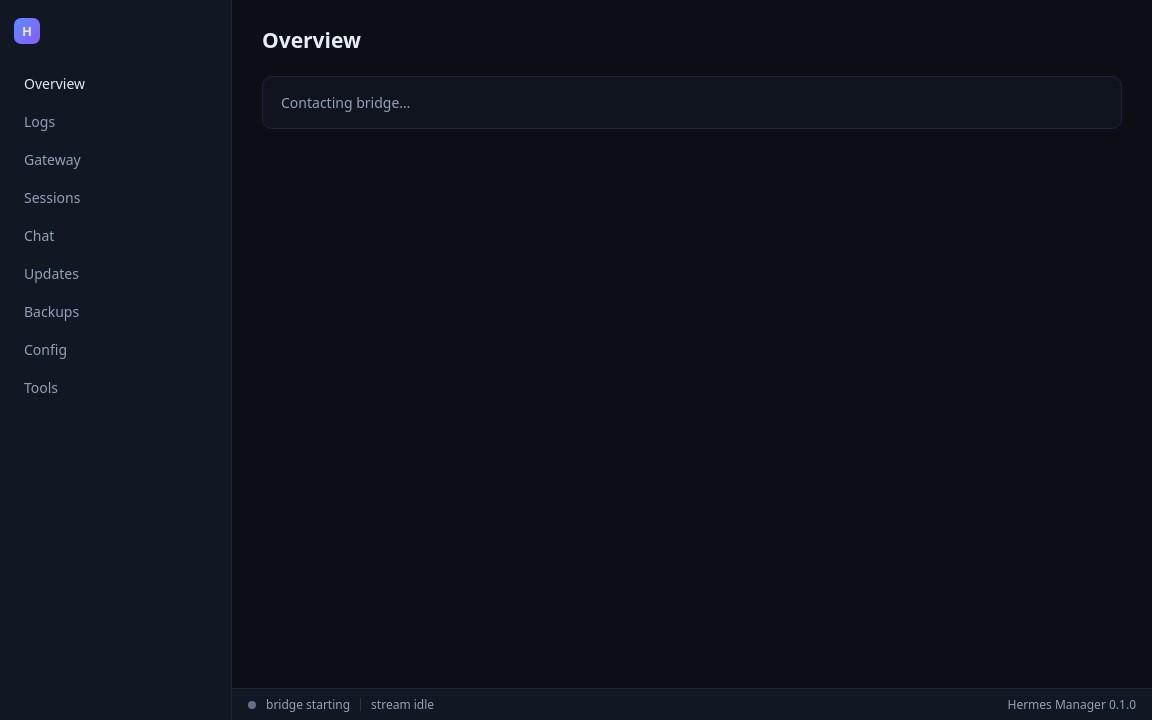
App shell › renders gateway status, fleet and processes
Click the button with test id "nav-gateway": (116, 160) [14,142,217,177]
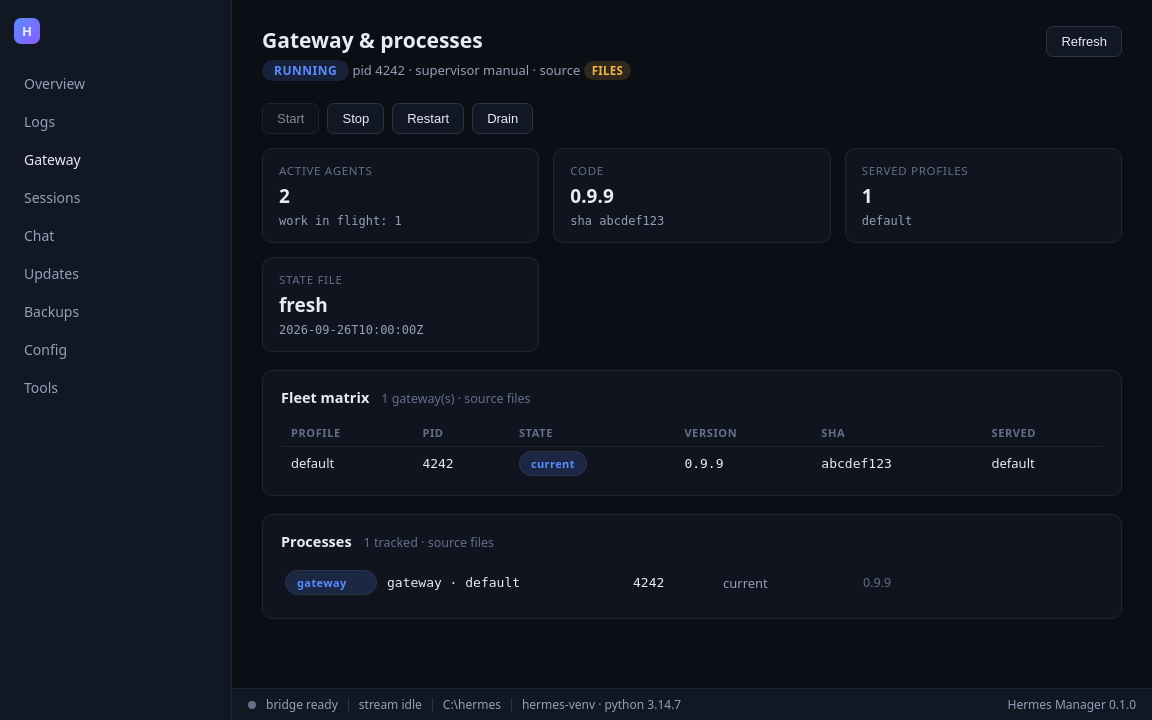
Check: the text with test id "gateway-state" reads "running", box [274,62,337,79]
Check: the table with test id "fleet-table" shows "4242", box [422,456,454,470]
Check: the list with test id "process-list" shows "gateway · default", box [387,575,520,590]
